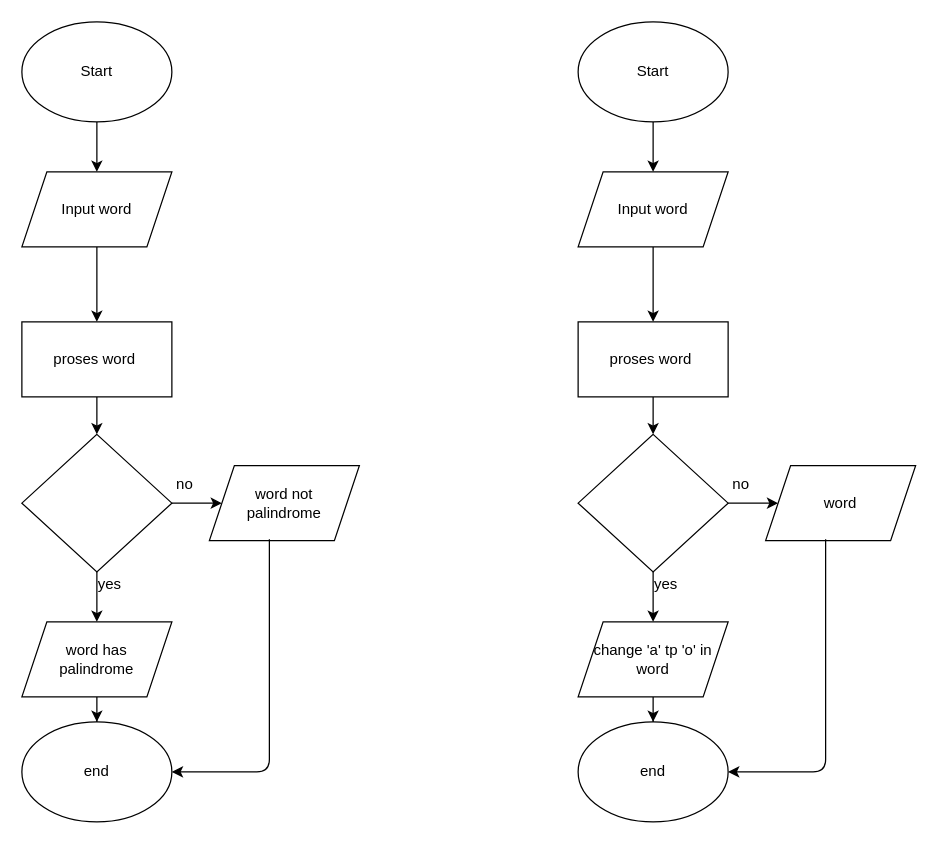
Image size: 938x844. Some labels were removed from this diagram. Each missing label, with the centre of its shape:
"word has 'a'" belongs at (x=652, y=502).
"word palindrome" belongs at (x=96, y=502).
